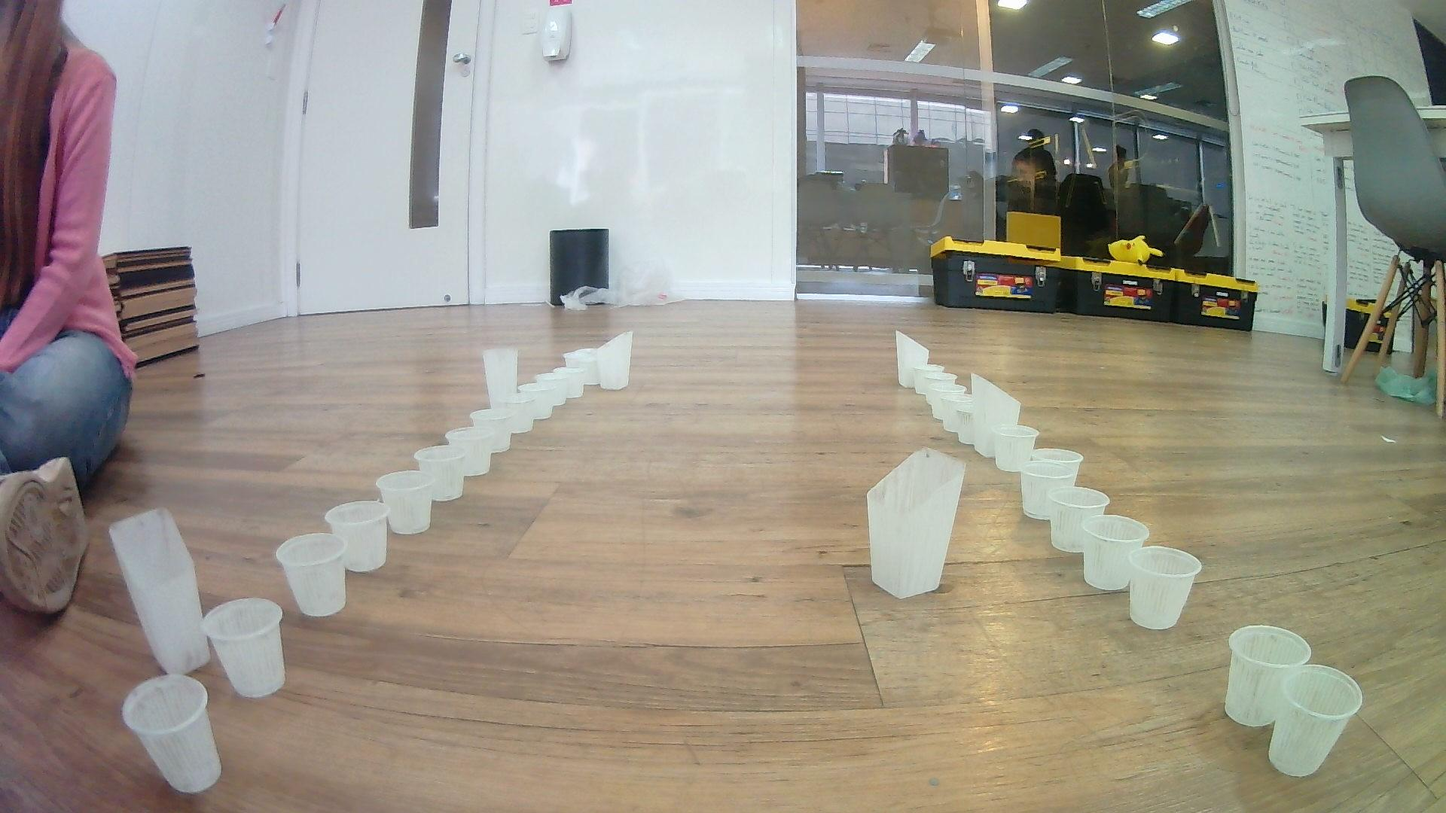erva_daninha: (107, 506, 212, 677), (865, 446, 968, 601), (970, 373, 1022, 461), (560, 330, 634, 391), (482, 346, 520, 410), (893, 329, 931, 388)
planta: (121, 671, 225, 795), (1266, 664, 1363, 779), (1223, 624, 1313, 728), (201, 598, 286, 699), (1125, 544, 1203, 632), (275, 534, 350, 619), (1081, 513, 1152, 592), (324, 499, 392, 574), (1048, 486, 1112, 554), (375, 471, 437, 534), (1018, 461, 1078, 521), (412, 443, 468, 503), (444, 425, 493, 478), (990, 424, 1042, 473), (1031, 447, 1084, 487), (469, 407, 512, 454), (494, 392, 535, 433), (517, 382, 555, 420), (929, 384, 966, 422), (941, 394, 976, 434), (920, 371, 958, 406), (907, 363, 945, 395), (551, 364, 585, 398), (535, 372, 568, 406), (566, 356, 599, 385), (957, 406, 976, 444)
